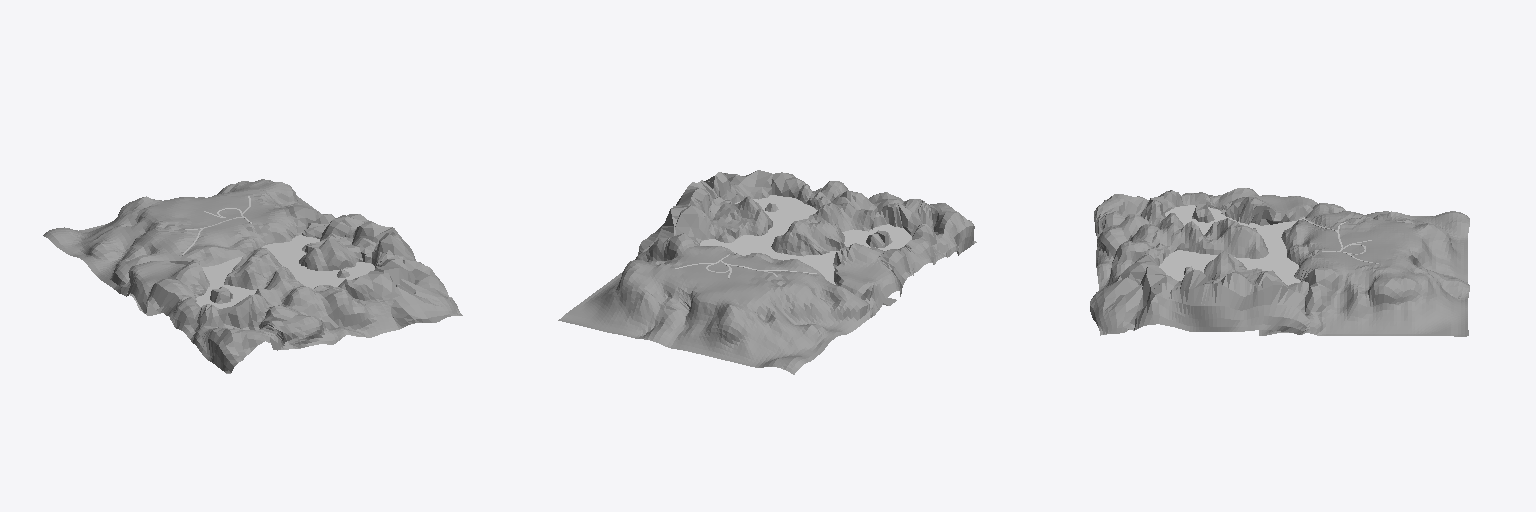
File: main.obj
The picture shows the model from 3 angles: view 1: azimuth 30°, elevation 25°; view 2: azimuth 150°, elevation 25°; view 3: azimuth 270°, elevation 25°; orthographic projection.
Visible parts, largest first — view 1: ground1_Landscape.001, ground2_Landscape.002, apa_Plane.002; view 2: ground2_Landscape.002, ground1_Landscape.001, apa_Plane.002; view 3: ground1_Landscape.001, ground2_Landscape.002, apa_Plane.002.
Boxes of the visible parts, box(x1,y1,x2,y2) form: ground1_Landscape.001: box(119, 214, 462, 373); ground2_Landscape.002: box(43, 179, 334, 315); apa_Plane.002: box(196, 235, 374, 308); ground2_Landscape.002: box(558, 233, 896, 374); ground1_Landscape.001: box(638, 170, 976, 315); apa_Plane.002: box(700, 195, 911, 284); ground1_Landscape.001: box(1090, 188, 1317, 335); ground2_Landscape.002: box(1259, 203, 1469, 336); apa_Plane.002: box(1159, 205, 1304, 285).
Bounding box in the file's own units: 258 × 61.31 × 340.